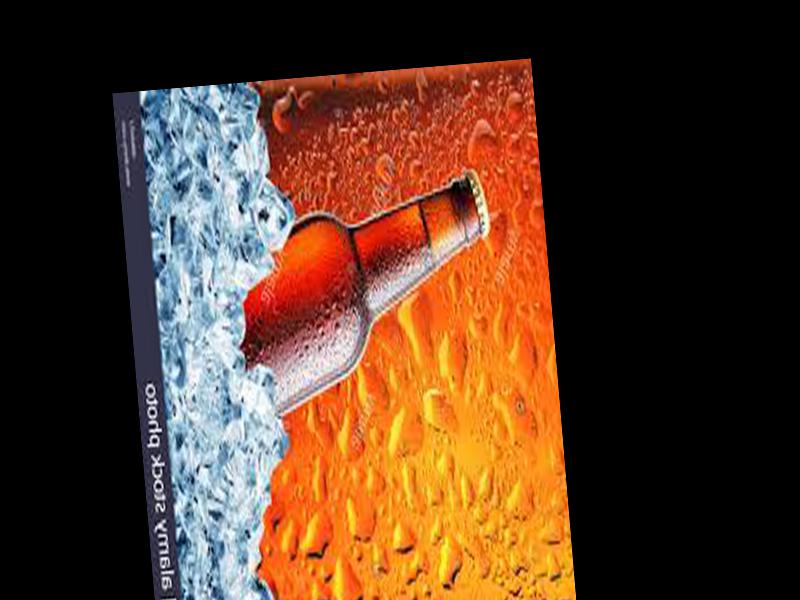Beer: (224, 156, 504, 415)
